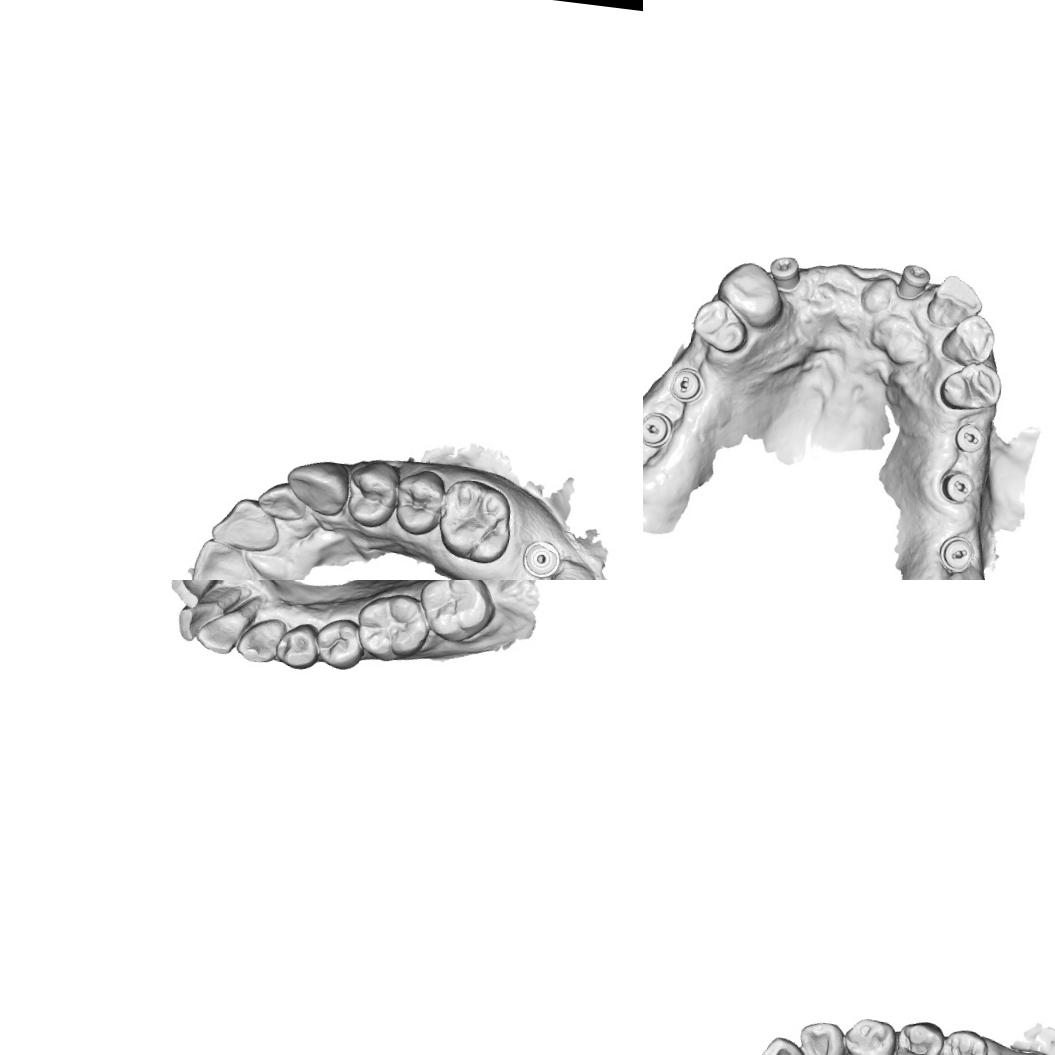canine: (282, 455, 352, 519), (939, 310, 998, 370), (234, 614, 286, 666), (840, 1014, 899, 1055)
implant: (519, 534, 565, 580), (893, 260, 933, 304), (766, 252, 804, 293)
implant_minus: (936, 533, 977, 575), (666, 364, 706, 406), (936, 468, 978, 506), (643, 405, 676, 451), (952, 421, 986, 455)
incisor: (208, 492, 286, 555), (924, 270, 985, 333), (187, 534, 260, 580), (253, 478, 310, 526), (194, 610, 244, 656), (793, 1017, 850, 1055), (174, 598, 221, 644), (749, 1032, 819, 1055), (167, 580, 218, 611)
molar: (433, 477, 516, 567), (352, 588, 434, 666), (413, 580, 498, 647)
premolar: (712, 256, 788, 332), (339, 454, 405, 533), (388, 462, 452, 536), (936, 357, 1004, 415), (688, 294, 752, 355), (312, 614, 368, 673), (274, 619, 321, 671), (891, 1017, 947, 1055), (933, 1026, 991, 1055)
